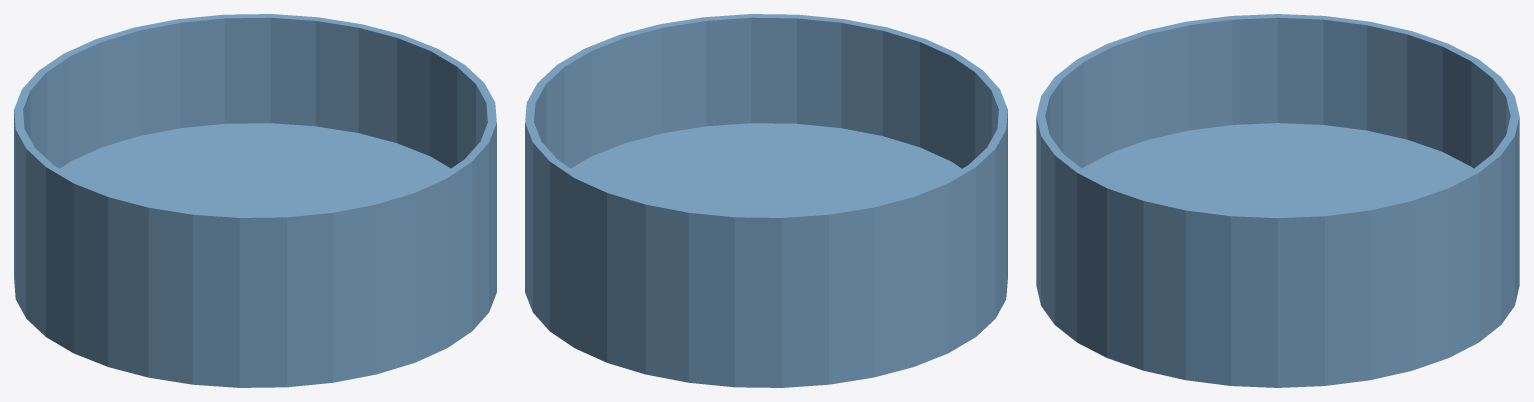
File: spot.fbx
3 renders of one model, left to right at view 1: azimuth 30°, elevation 25°; view 2: azimuth 150°, elevation 25°; view 3: azimuth 270°, elevation 25°, orthographic.
Visible parts, largest first — view 1: Cylinder; view 2: Cylinder; view 3: Cylinder.
Boxes of the visible parts, x1=… form: Cylinder: x1=14, y1=14, x2=496, y2=387; Cylinder: x1=525, y1=14, x2=1007, y2=387; Cylinder: x1=1036, y1=14, x2=1519, y2=387.
Bounding box in the file's own units: 823 × 319 × 823.
